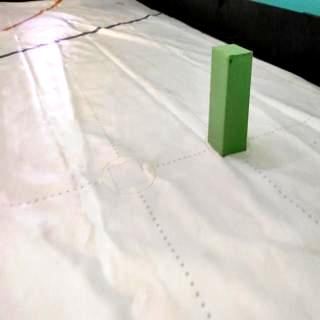greenbox: (207, 42, 255, 158)
